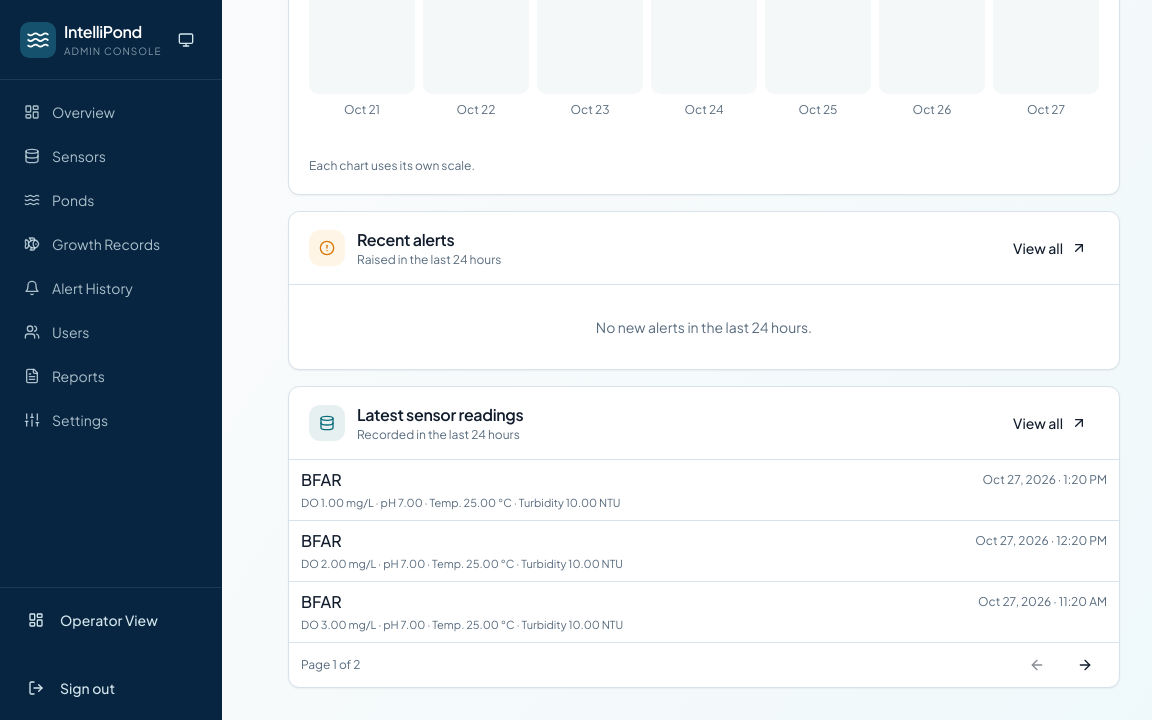
Test case: AdminOverview recent activity › pages sensor readings separately in groups of three
(page scrolled)
Expected: the text "DO 1.00 mg/L" is shown, [301,496,620,509]
Expected: the text "DO 4.00 mg/L" is not shown
Step 1. Click the button named "Next sensor reading page" → [1085, 665], box [1063,643,1107,687]
(page scrolled)
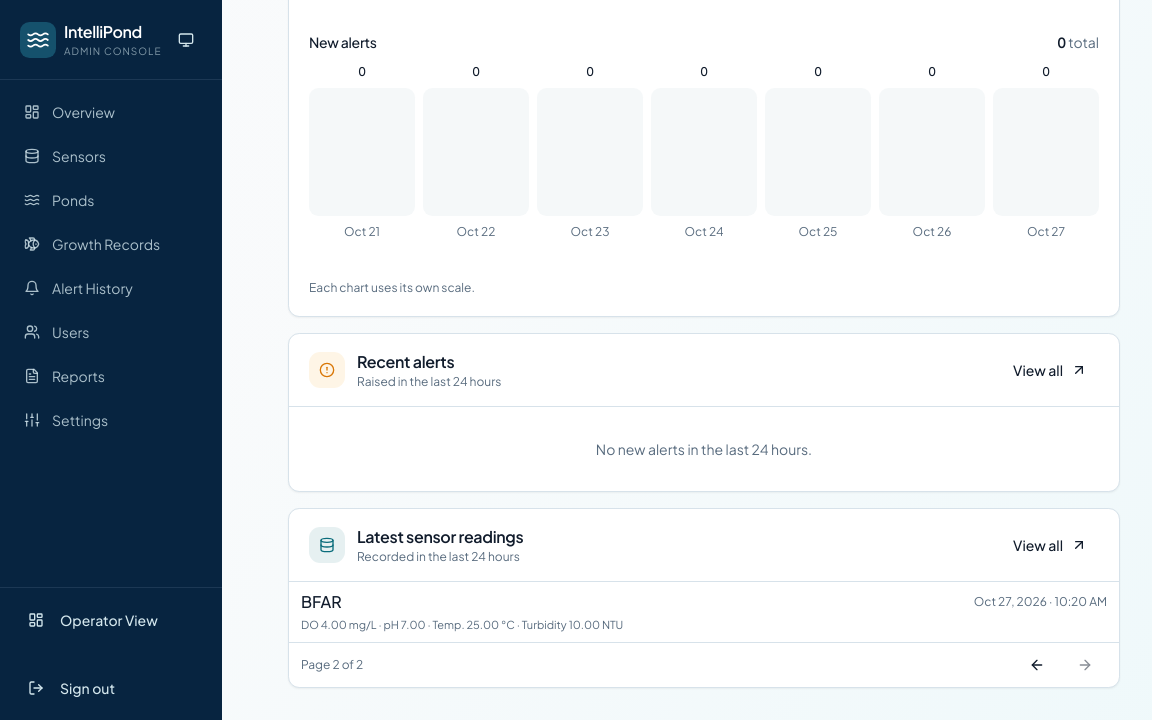
Expected: the text "DO 4.00 mg/L" is shown, [301,618,623,631]
Expected: the text "DO 1.00 mg/L" is gone
